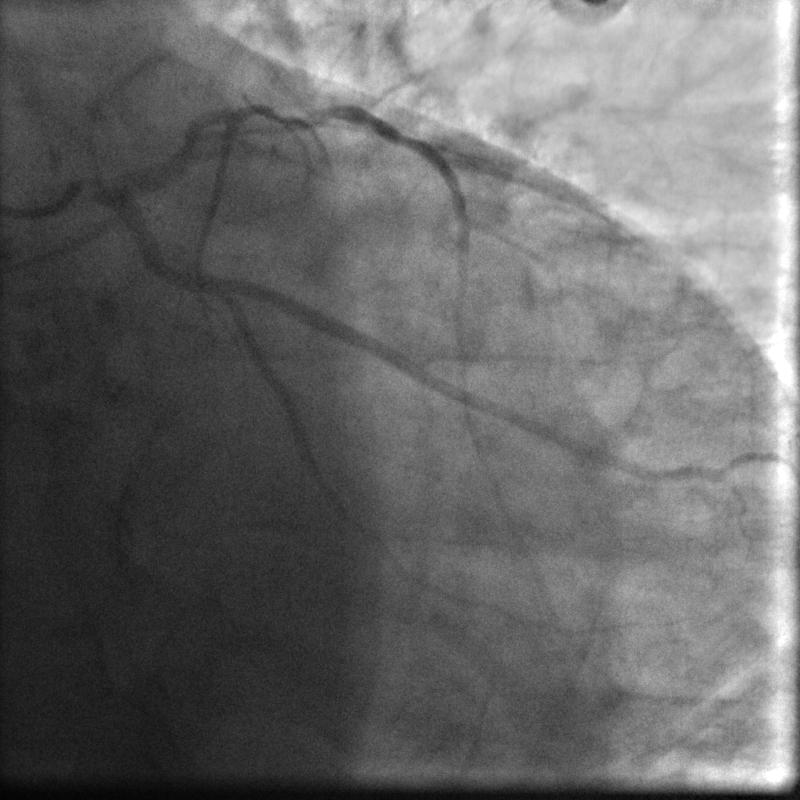Stenosis: (245, 109, 333, 136)
